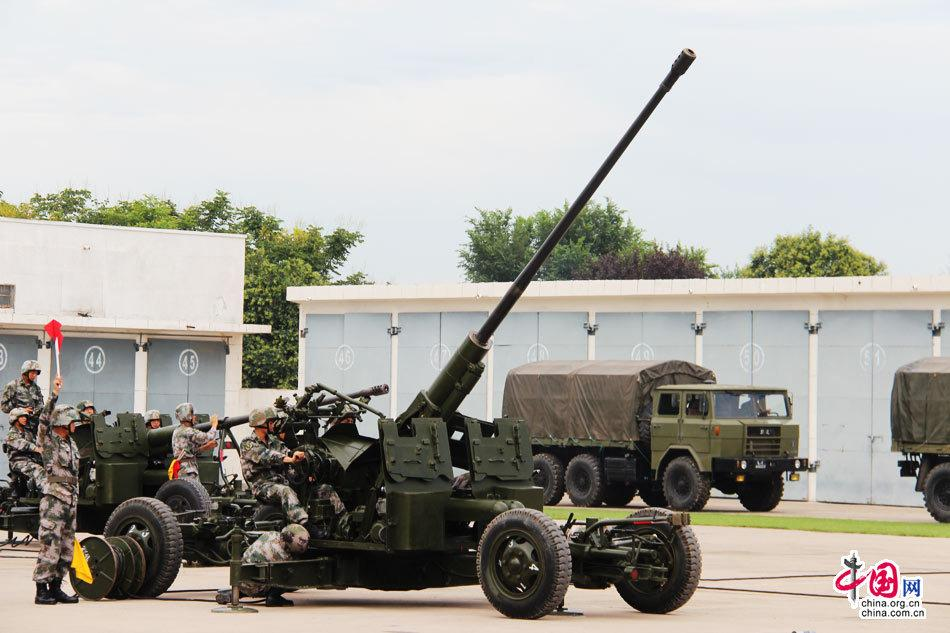MIL_SPG: (87, 50, 701, 618), (503, 360, 811, 510), (891, 356, 950, 522)
